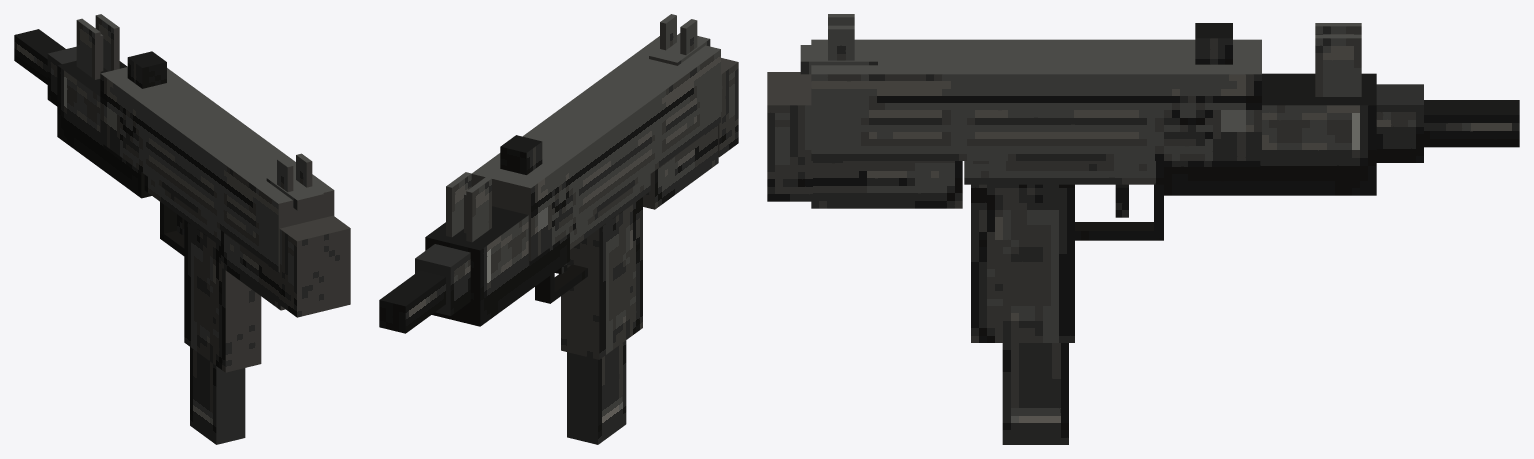
Rendered from mini_uzi.glb.
3 views of the same model, side by side, from view 1: azimuth 30°, elevation 25°; view 2: azimuth 150°, elevation 25°; view 3: azimuth 270°, elevation 25° (orthographic). The views are drawn at different scales.
Parts seen in each view (by area): view 1: receiver, pistol_grip, receiver_back, magazine, front_body, back_lower, barrel, grip_top, front_ear_left, cocking_knob, lower_front, front_ear_right (+6 smaller); view 2: receiver, pistol_grip, front_body, magazine, barrel, back_lower, barrel_nut, receiver_back, grip_top, front_ear_left, cocking_knob, lower_front (+6 smaller); view 3: receiver, pistol_grip, front_body, back_lower, magazine, receiver_back, grip_top, barrel, barrel_nut, lower_front, front_ear_right, trigger_guard (+3 smaller).
Boxes of the visible parts, left/top/right/bottom form: receiver: left=100, top=67, right=334, bottom=272; pistol_grip: left=184, top=219, right=261, bottom=372; receiver_back: left=279, top=215, right=350, bottom=317; magazine: left=190, top=347, right=245, bottom=444; front_body: left=57, top=60, right=127, bottom=169; back_lower: left=221, top=230, right=285, bottom=310; barrel: left=14, top=29, right=65, bottom=84; grip_top: left=144, top=175, right=220, bottom=245; front_ear_left: left=76, top=18, right=100, bottom=79; cocking_knob: left=127, top=51, right=166, bottom=88; lower_front: left=103, top=144, right=151, bottom=198; front_ear_right: left=95, top=14, right=119, bottom=71; receiver: left=471, top=36, right=720, bottom=261; pistol_grip: left=561, top=197, right=642, bottom=359; front_body: left=425, top=206, right=529, bottom=326; magazine: left=567, top=340, right=626, bottom=444; barrel: left=379, top=270, right=445, bottom=333; back_lower: left=643, top=125, right=718, bottom=209; barrel_nut: left=415, top=244, right=470, bottom=315; receiver_back: left=718, top=58, right=738, bottom=157; grip_top: left=570, top=174, right=650, bottom=249; front_ear_left: left=466, top=177, right=491, bottom=242; cocking_knob: left=500, top=135, right=542, bottom=174; lower_front: left=529, top=233, right=569, bottom=290; receiver: left=811, top=39, right=1261, bottom=160; pistol_grip: left=971, top=184, right=1074, bottom=342; front_body: left=1260, top=73, right=1376, bottom=195; back_lower: left=811, top=161, right=962, bottom=208; magazine: left=1002, top=343, right=1068, bottom=444; receiver_back: left=767, top=72, right=812, bottom=201; grip_top: left=964, top=161, right=1163, bottom=184; barrel: left=1424, top=100, right=1519, bottom=147; barrel_nut: left=1376, top=84, right=1423, bottom=162; lower_front: left=1164, top=161, right=1260, bottom=195; front_ear_right: left=1315, top=34, right=1361, bottom=96; trigger_guard: left=1075, top=222, right=1163, bottom=240.
Bounding box in the file's own units: 0.0391 × 0.2188 × 0.36.
1 material, 1 textured.
